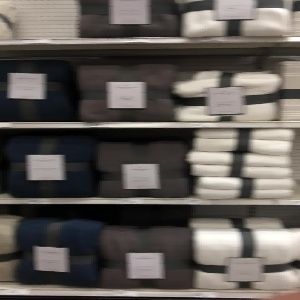void: (17, 1, 78, 40)
